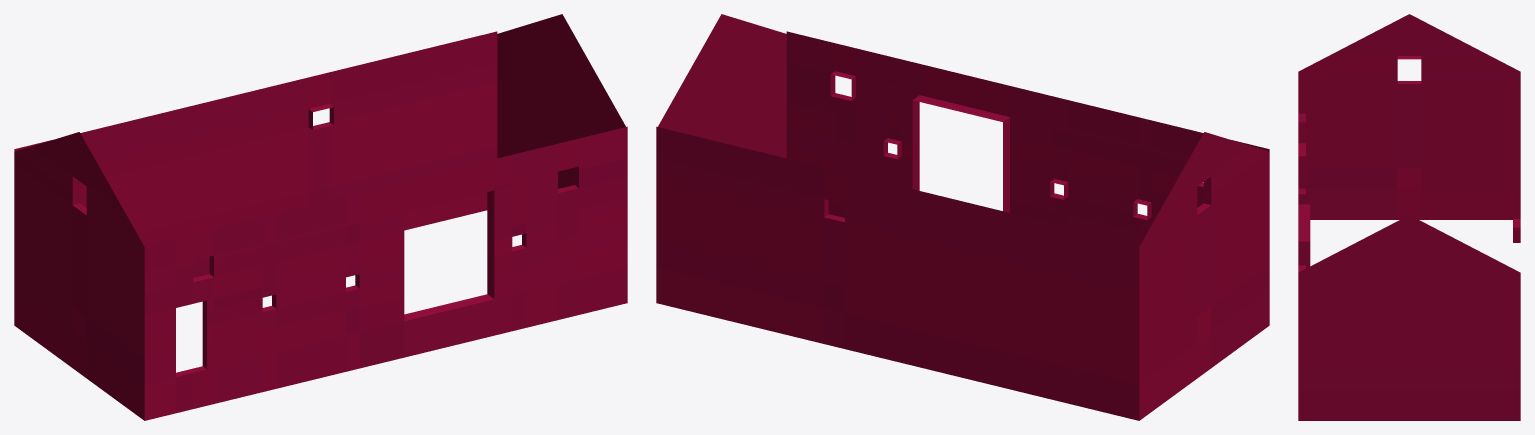
The model's file is SM_Bld_004_Masonry.glb.
The picture shows the model from 3 angles, left to right: view 1: azimuth 30°, elevation 25°; view 2: azimuth 150°, elevation 25°; view 3: azimuth 270°, elevation 25°; orthographic projection. The views are drawn at different scales.
Parts seen in each view (by area): view 1: SM_Bld_004_Masonry; view 2: SM_Bld_004_Masonry; view 3: SM_Bld_004_Masonry.
Part boxes in pixels (x1,y1,x2,y2): SM_Bld_004_Masonry: [14, 14, 627, 420]; SM_Bld_004_Masonry: [656, 14, 1269, 420]; SM_Bld_004_Masonry: [1298, 14, 1520, 420].
Size of the model in its own units: 13.92 by 6.65 by 6.5.
